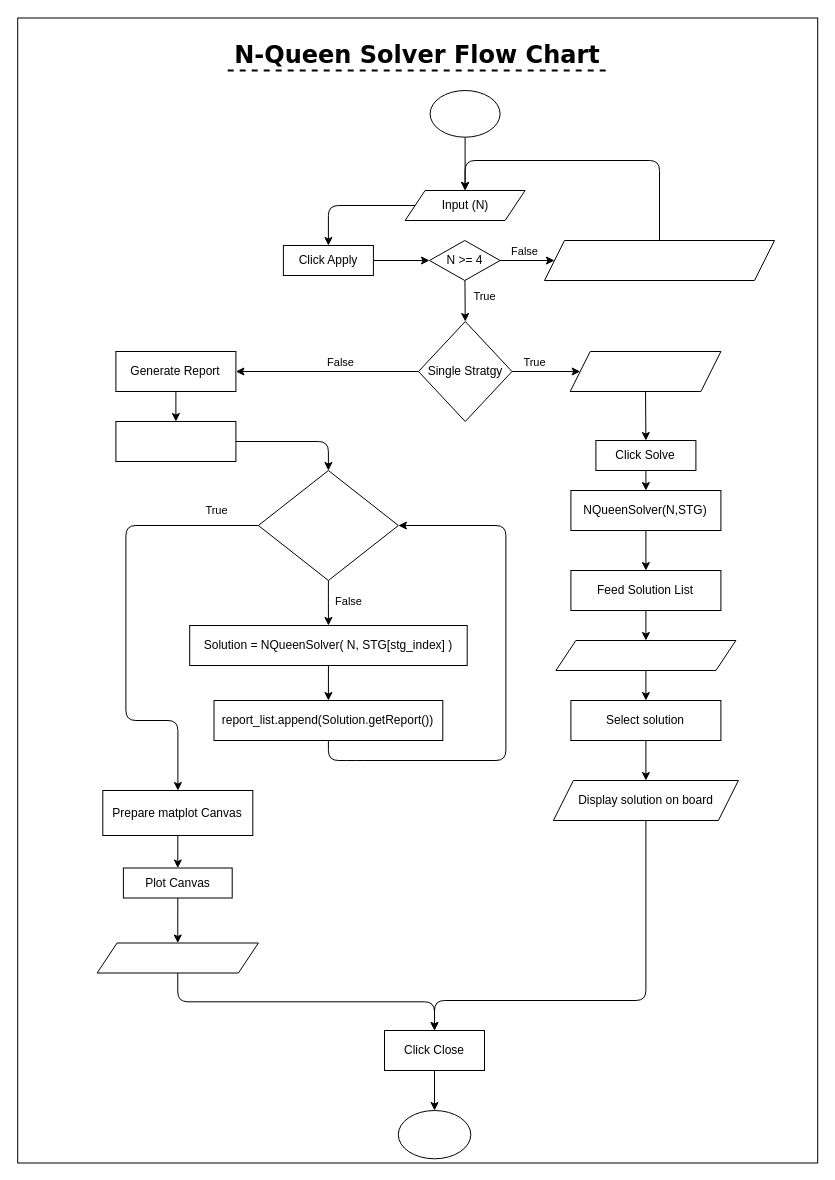
This 835x1180 diagram has some shape labels left out. The centre of each missing label's shape, as x and y in pixels:
"Display Plotted Report" goes at (x=177, y=957).
"Display solutions" goes at (x=645, y=655).
"END" goes at (x=434, y=1134).
"Invalid Input N Must be Greater than or Equal 4" goes at (x=659, y=260).
"Select Search Stratgy (STG)" goes at (x=645, y=371).
"START" goes at (x=464, y=113).
"stg_index = 0 , report_list = []" goes at (x=175, y=441).
"stg_index >= stg_list length" goes at (x=327, y=525).
